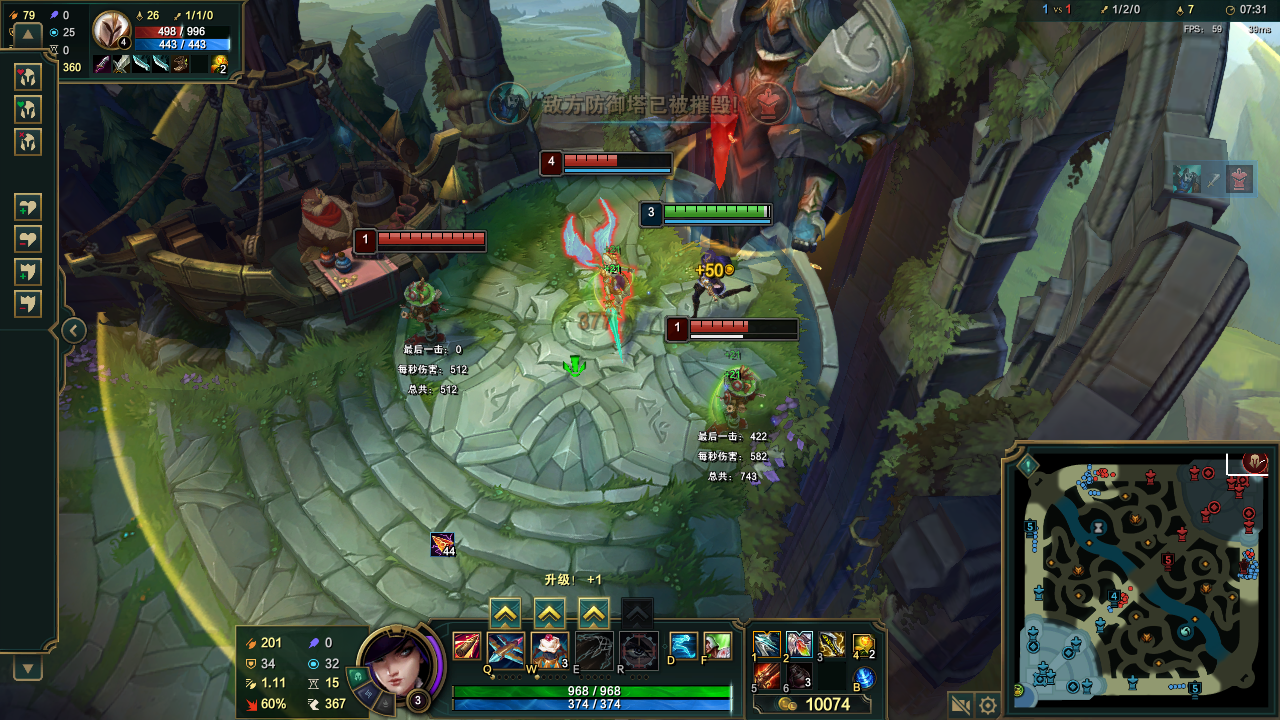DFYX: (691, 316, 801, 335), (563, 154, 672, 169), (376, 233, 486, 245)
